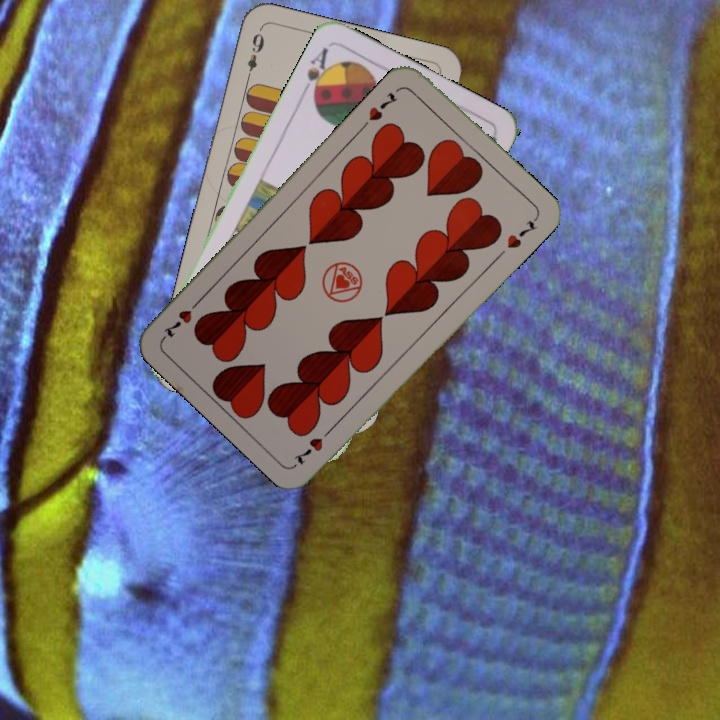E9: (242, 26, 267, 84)
H7: (289, 422, 337, 467), (364, 88, 401, 123)
SA: (298, 43, 335, 102)
